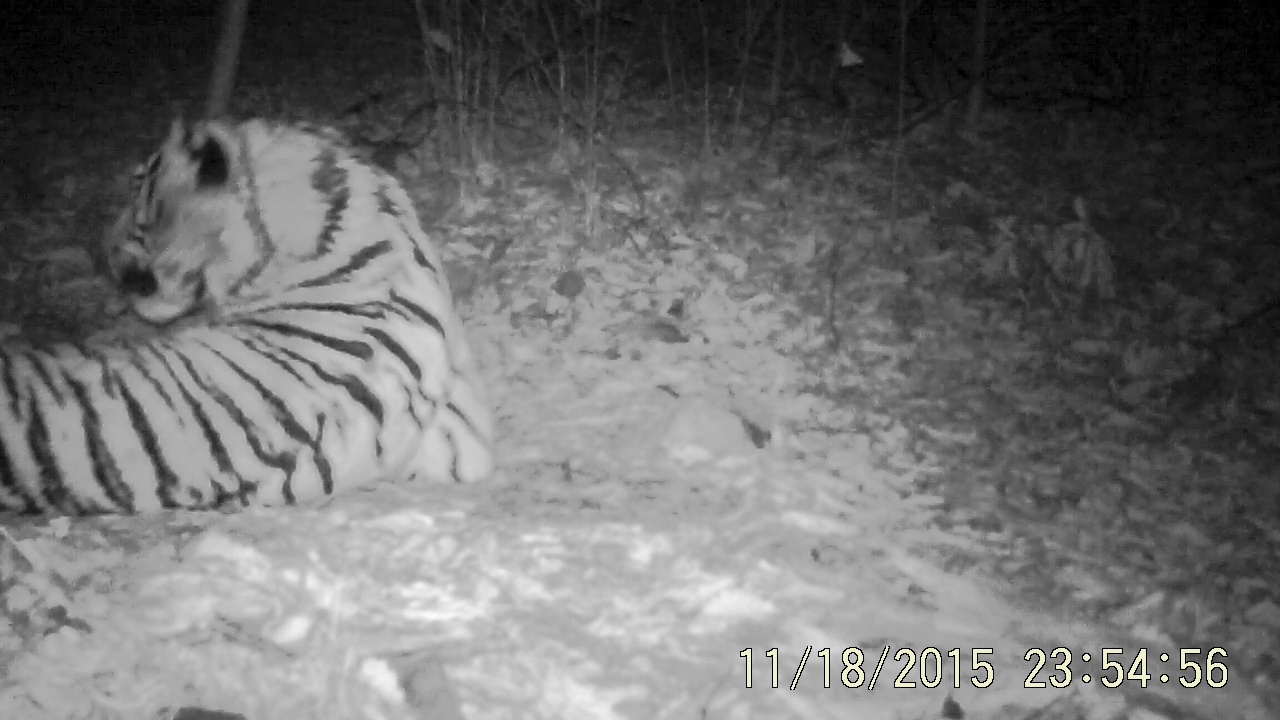Tiger: (6, 52, 540, 567)
